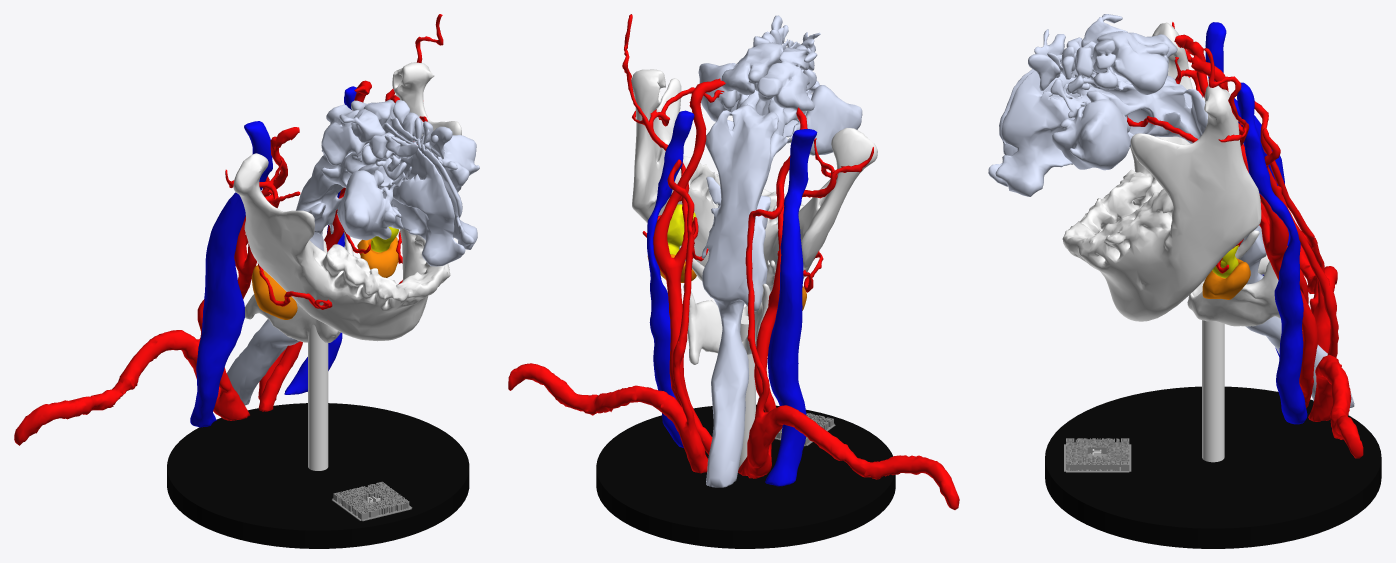
File: 下颌骨.gltf
3 views of the same model, side by side, from view 1: azimuth 30°, elevation 25°; view 2: azimuth 150°, elevation 25°; view 3: azimuth 270°, elevation 25° (orthographic). The views are drawn at different scales.
Parts seen in each view (by area): view 1: 底座, 呼吸道-109pt15, 下颌骨-102pt65, 动脉血管-35pt94, 静脉血管-32pt72, 柱体, 颌下腺-7pt88, 二维码, 软骨-9pt01; view 2: 呼吸道-109pt15, 底座, 动脉血管-35pt94, 静脉血管-32pt72, 下颌骨-102pt65, 软骨-9pt01, 柱体, 占位-4pt42; view 3: 底座, 下颌骨-102pt65, 呼吸道-109pt15, 动脉血管-35pt94, 静脉血管-32pt72, 柱体, 软骨-9pt01, 二维码, 颌下腺-7pt88.
Boxes of the visible parts, x1,y1,x2,y2 form: 底座: [167, 403, 469, 548]; 呼吸道-109pt15: [227, 99, 479, 405]; 下颌骨-102pt65: [233, 62, 461, 341]; 动脉血管-35pt94: [14, 14, 443, 445]; 静脉血管-32pt72: [190, 86, 356, 427]; 柱体: [308, 324, 328, 470]; 颌下腺-7pt88: [251, 237, 398, 319]; 二维码: [332, 481, 412, 521]; 软骨-9pt01: [245, 239, 340, 342]; 呼吸道-109pt15: [698, 15, 862, 487]; 底座: [596, 404, 895, 548]; 动脉血管-35pt94: [508, 14, 959, 509]; 静脉血管-32pt72: [647, 110, 817, 486]; 下颌骨-102pt65: [631, 69, 877, 292]; 软骨-9pt01: [683, 283, 770, 364]; 柱体: [738, 316, 755, 469]; 占位-4pt42: [667, 204, 695, 254]; 底座: [1045, 386, 1381, 548]; 下颌骨-102pt65: [1062, 22, 1261, 321]; 呼吸道-109pt15: [988, 14, 1354, 407]; 动脉血管-35pt94: [1127, 22, 1363, 458]; 静脉血管-32pt72: [1205, 22, 1307, 424]; 柱体: [1202, 320, 1224, 462]; 软骨-9pt01: [1187, 255, 1280, 326]; 二维码: [1064, 438, 1131, 472]; 颌下腺-7pt88: [1202, 258, 1250, 299].
Bounding box in the file's own units: 0.248 × 0.2431 × 0.1752.
